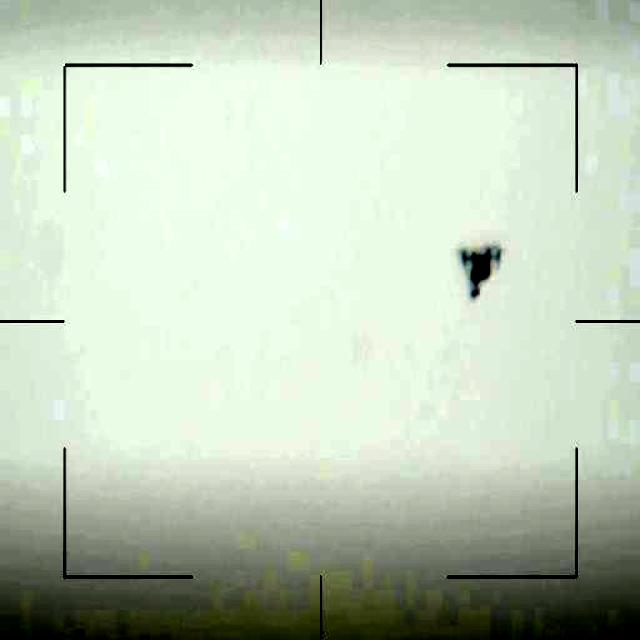bird: (455, 240, 512, 314)
